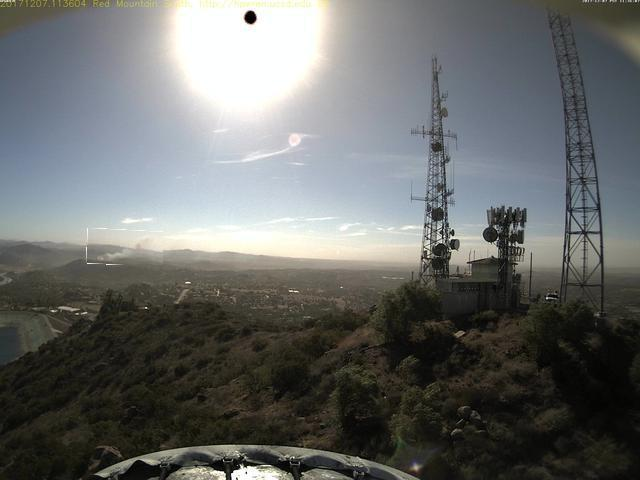smoke: (88, 230, 165, 267)
